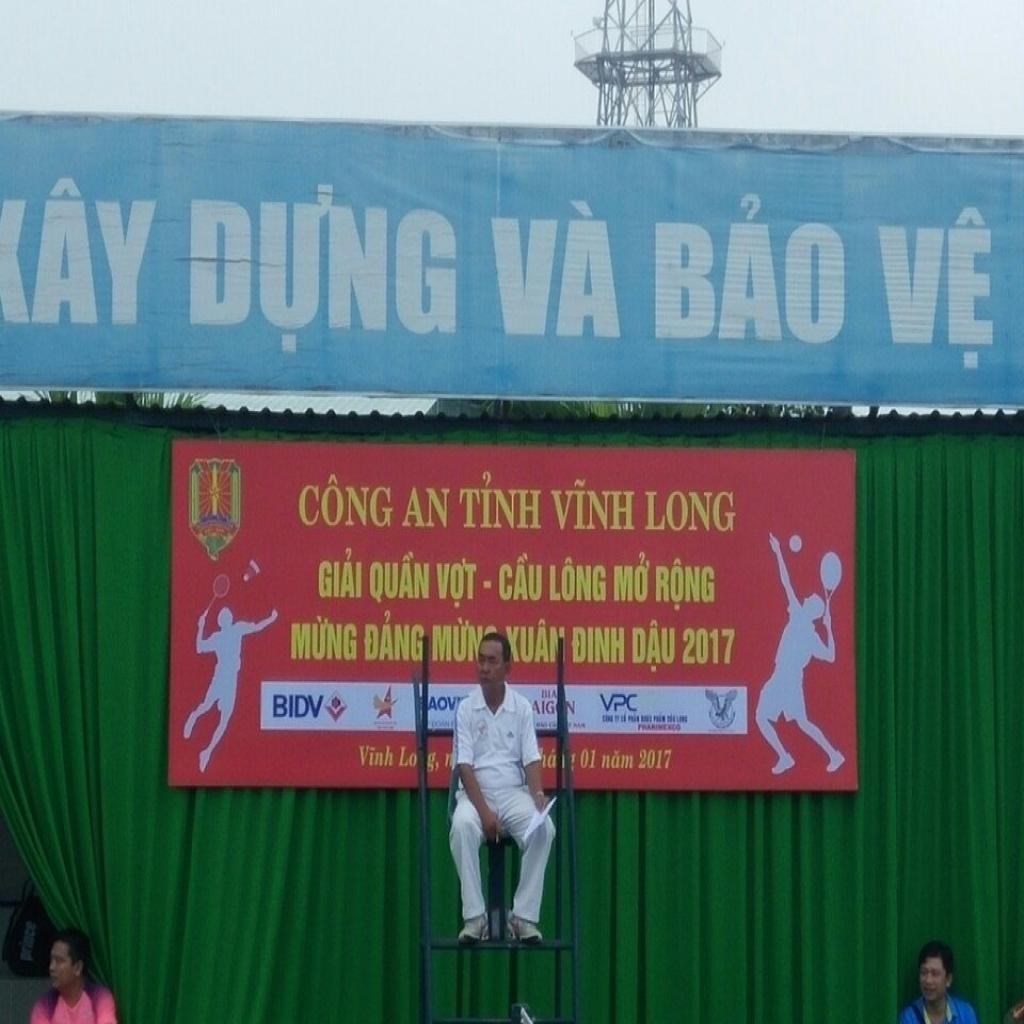text: (174, 178, 461, 361), (641, 184, 851, 356), (861, 194, 1005, 378), (474, 186, 632, 352), (23, 168, 175, 340), (294, 471, 397, 533), (456, 465, 545, 532), (548, 474, 638, 533), (640, 486, 738, 536), (365, 546, 434, 607), (287, 610, 358, 664), (652, 556, 718, 612), (360, 608, 428, 662), (547, 553, 608, 606), (502, 617, 568, 664), (313, 546, 366, 603), (429, 612, 486, 664), (628, 617, 678, 674), (398, 482, 452, 533), (434, 555, 480, 613), (680, 624, 739, 668), (497, 550, 544, 604), (570, 623, 626, 667), (611, 546, 652, 606), (269, 690, 328, 722), (354, 737, 397, 772), (597, 688, 641, 716), (597, 747, 635, 771), (426, 692, 460, 716), (397, 741, 420, 769), (529, 700, 558, 720), (424, 747, 442, 778), (577, 745, 598, 771), (546, 742, 559, 771), (539, 686, 561, 701)
